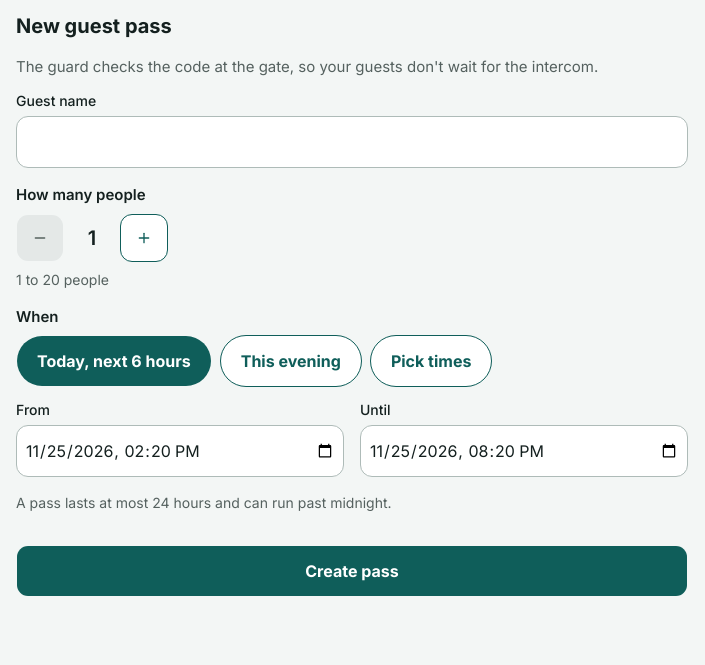
Test case: NewGuestPassForm › says so when the server cannot be reached
Click the button "Create pass": (352, 571) 16,545 -> 688,597
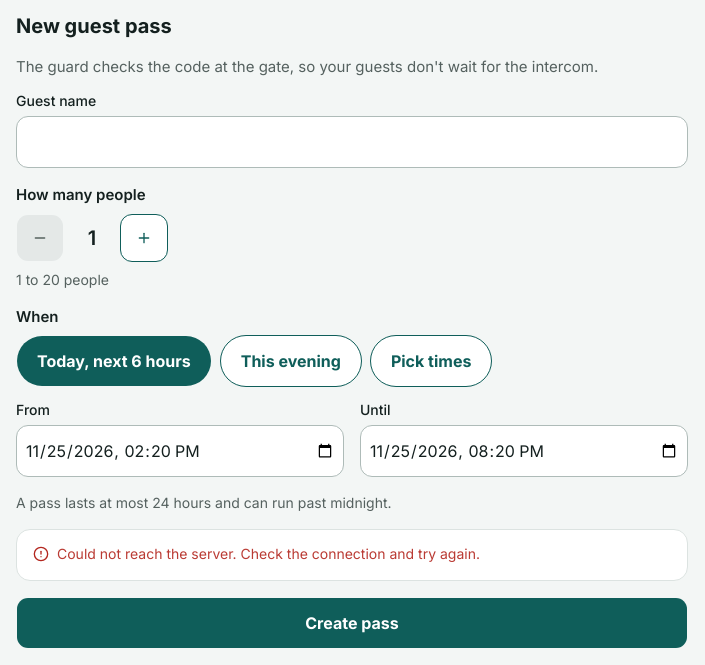
Expected: the text "Could not reach the server. Check the connection and try again." is shown, 57,545 -> 480,562
